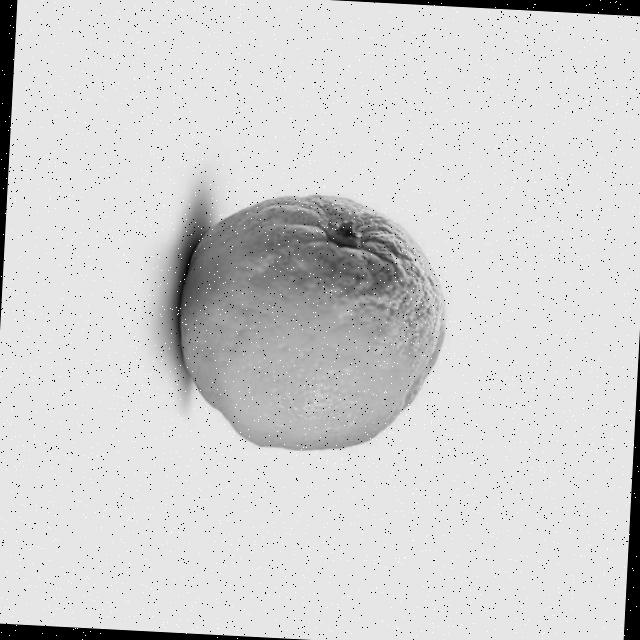Rotten: (172, 187, 454, 458)
